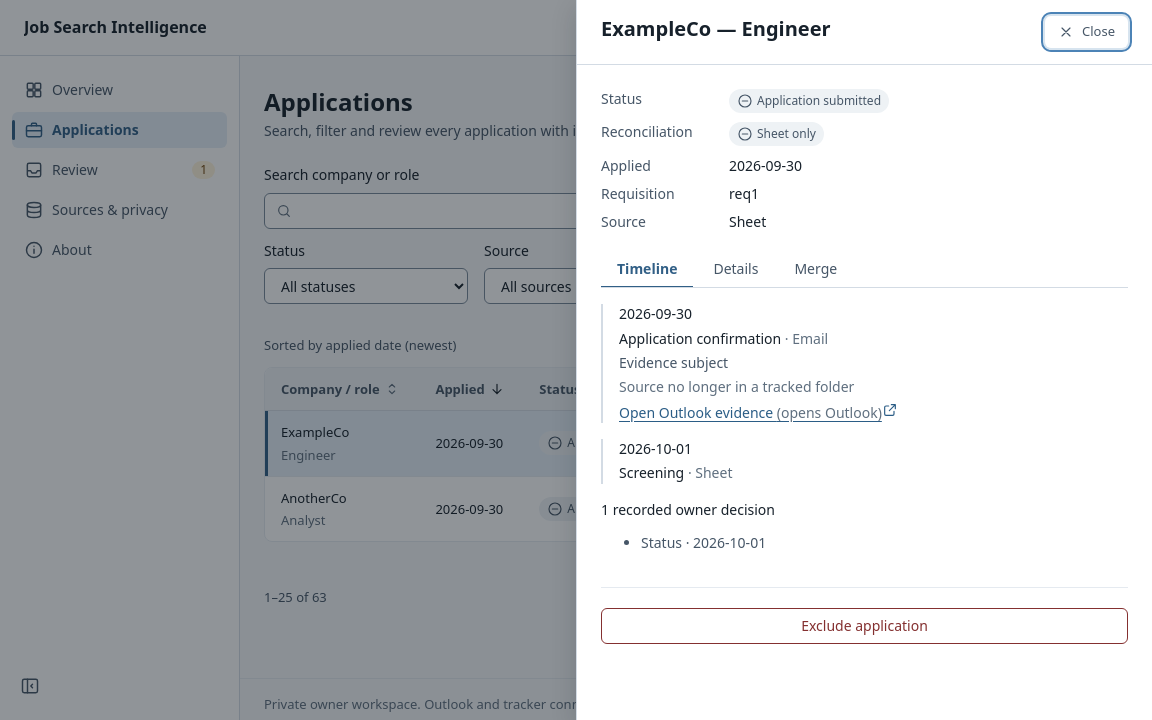
Test case: application drawer › saves a correction with the same payload as before
Click the tab "Details".
click(736, 270)  # box left=697, top=252, right=774, bottom=288
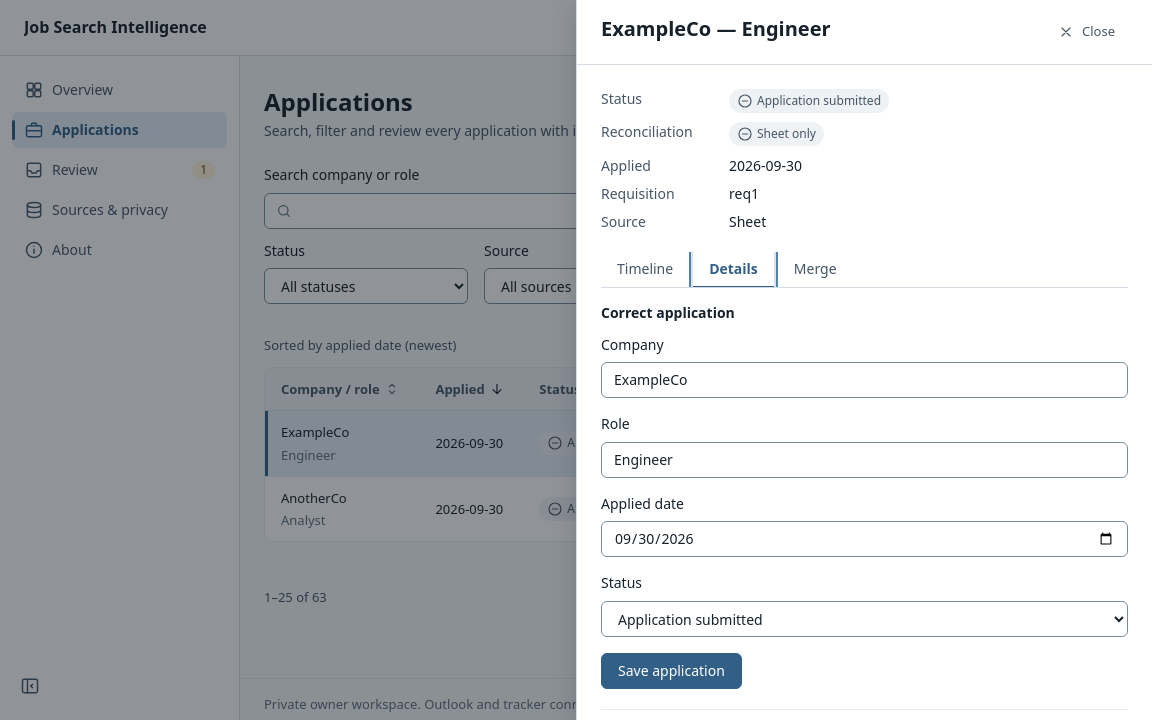
Replace the text in the field labelled "Company" with "RenamedCo" at (864, 380), box left=601, top=362, right=1128, bottom=398
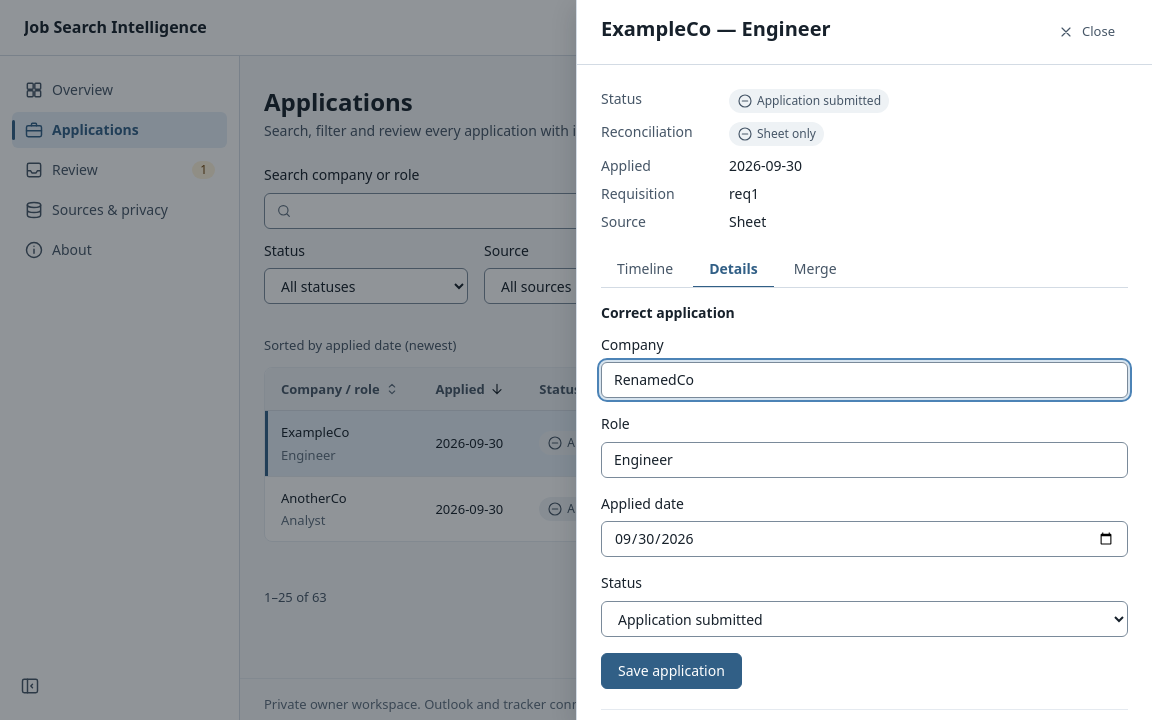
Select "Interview scheduled" in the dropdown labelled "Status" at (864, 619), box left=601, top=601, right=1128, bottom=637
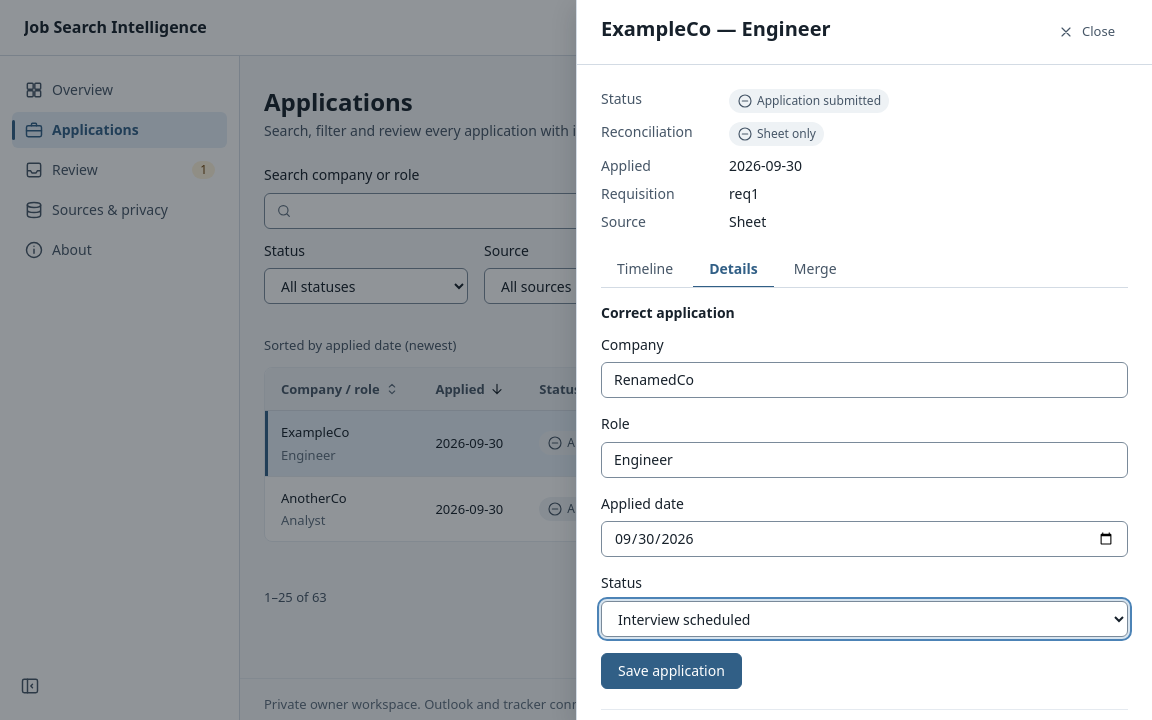
Click the button "Save application".
click(671, 671)  # box left=601, top=653, right=742, bottom=689
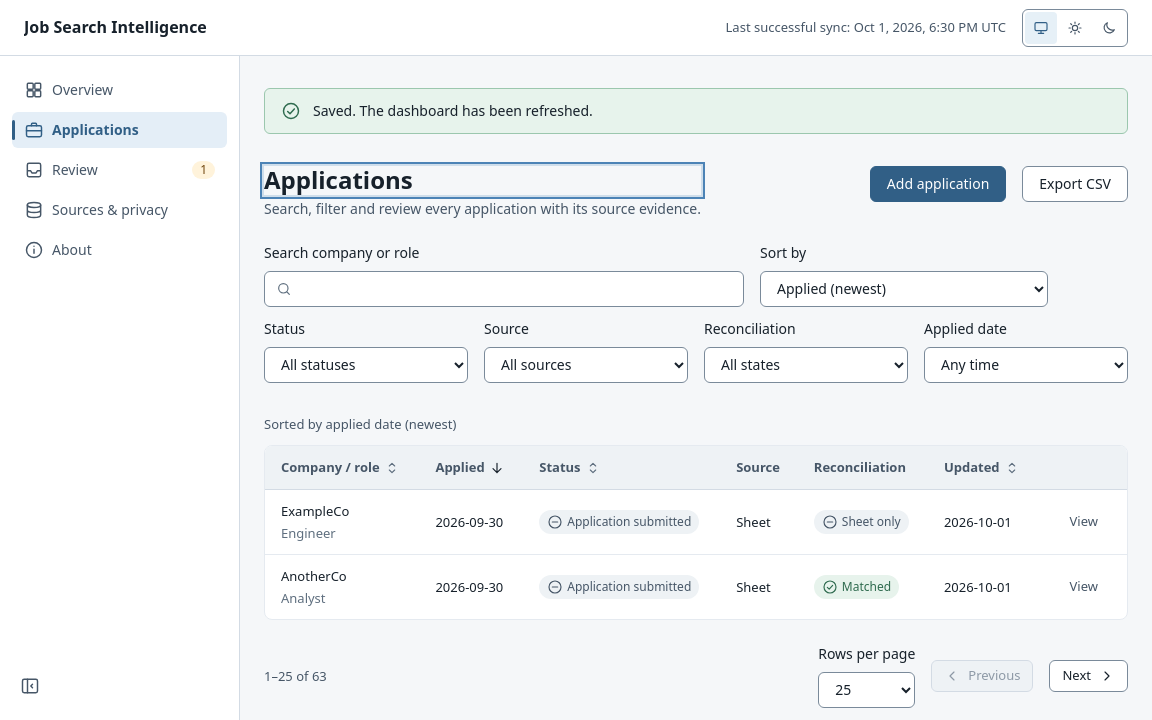
Expected: the text "Saved. The dashboard has been refreshed." is shown, left=313, top=101, right=593, bottom=121
